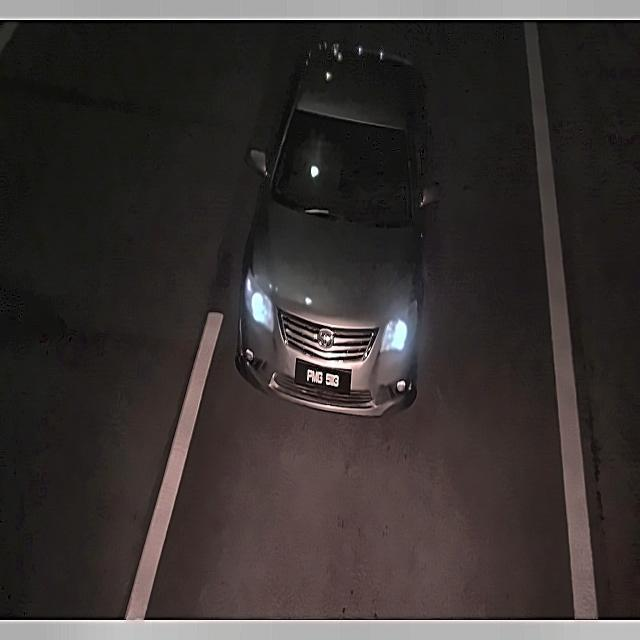car: (291, 354, 354, 402)
